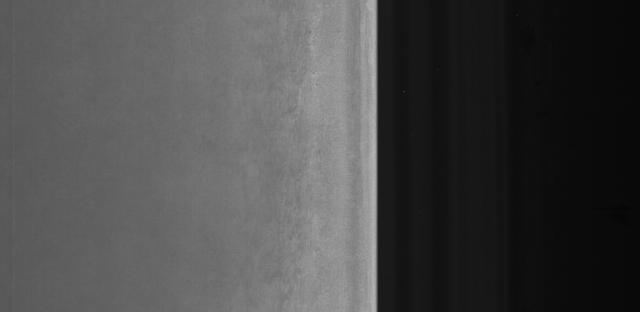silk_spot: (251, 110, 328, 266)
